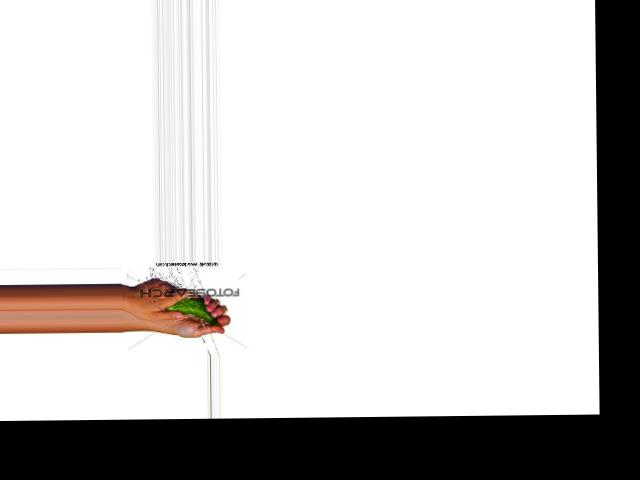cucumber: (163, 296, 219, 325)
